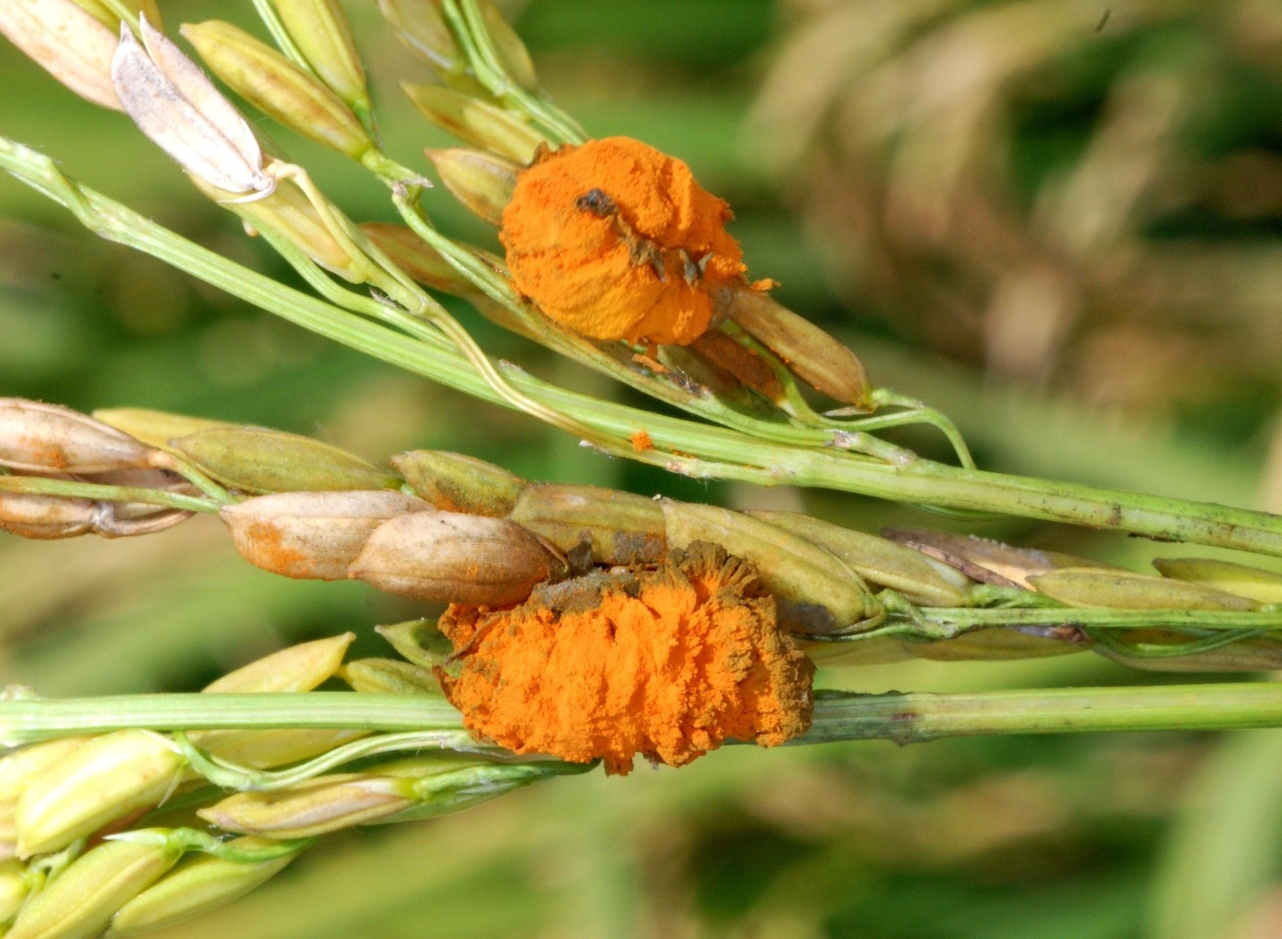False Smut: (417, 534, 831, 773), (501, 122, 780, 361)
